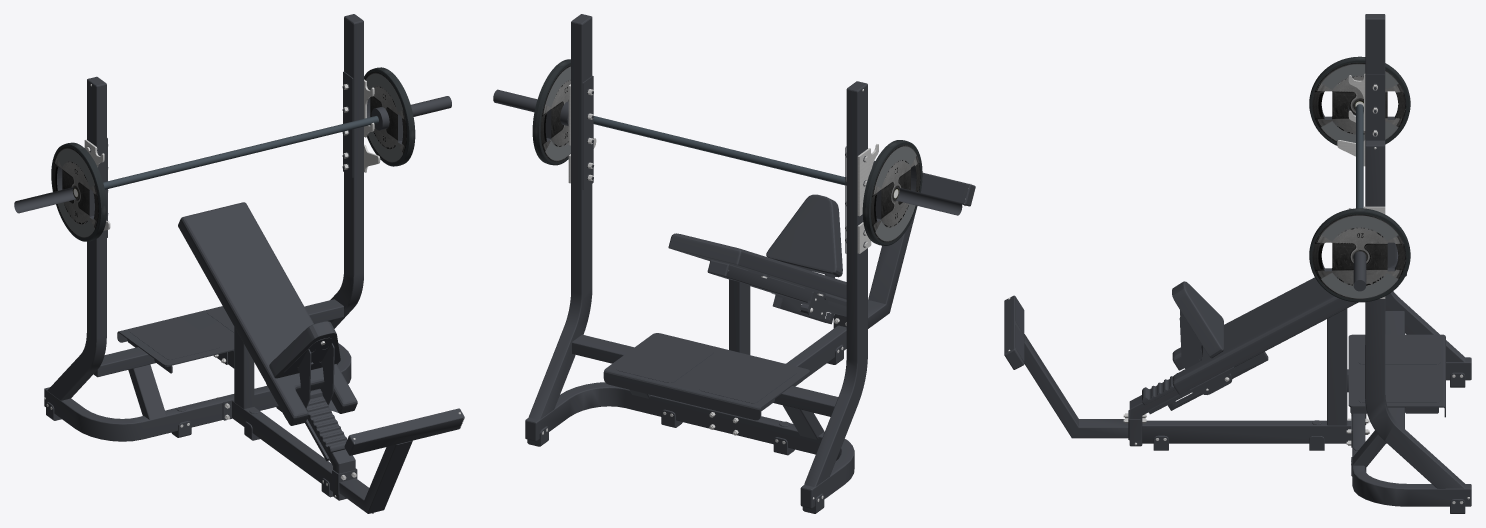
The model's file is olympicinclinedbench-composer.glb.
The picture shows the model from 3 angles, left to right: view 1: azimuth 30°, elevation 25°; view 2: azimuth 150°, elevation 25°; view 3: azimuth 270°, elevation 25°; orthographic projection. The views are drawn at different scales.
Bounding box in the file's own units: 1.98 × 1.6 × 1.84.
5 materials, 2 textured.
